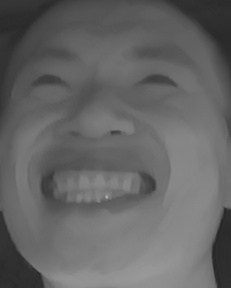eye: (130, 65, 184, 94), (26, 74, 79, 99)
mouth: (27, 155, 159, 216)
